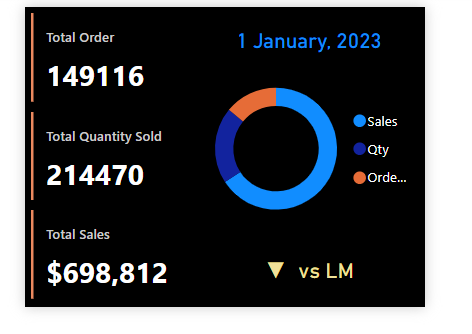

This screenshot's page, from the dashboard's own definition file:
{"tool":"powerbi","page":{"name":"Tool Tip-Calendar Chart","canvas":[320,240],"ordinal":1},"visuals":[{"type":"cardVisual","fields":{"Data":["Transactions.Total Order","Transactions.Total Quantity Sold","Transactions.Total Sales"]},"box":[0,0,135,240],"z":0},{"type":"donutChart","fields":{"Y":["Transactions.Total Sales","Transactions.Total Quantity Sold","Transactions.Total Order"]},"box":[135,28,185,171],"z":1000},{"type":"card","fields":{"Values":["Min(Date Table.Date)"]},"box":[135,6,185,43],"z":2000},{"type":"card","fields":{"Values":["Transactions.MoM Growth & Diff Sales"]},"box":[135,190,185,43],"z":3000}]}

Visuals, with their boxes on the page's 320x240 design canvas (x1, y1, x2, y2). These are canvas units, not pixel positions in the 472x334 screenshot, which may show the page scaled, cropped or inside an application window:
cardVisual - Transactions.Total Order x Transactions.Total Quantity Sold: [0, 0, 135, 240]
donutChart - Transactions.Total Sales x Transactions.Total Quantity Sold: [135, 28, 320, 199]
card - Min(Date Table.Date): [135, 6, 320, 49]
card - Transactions.MoM Growth & Diff Sales: [135, 190, 320, 233]
